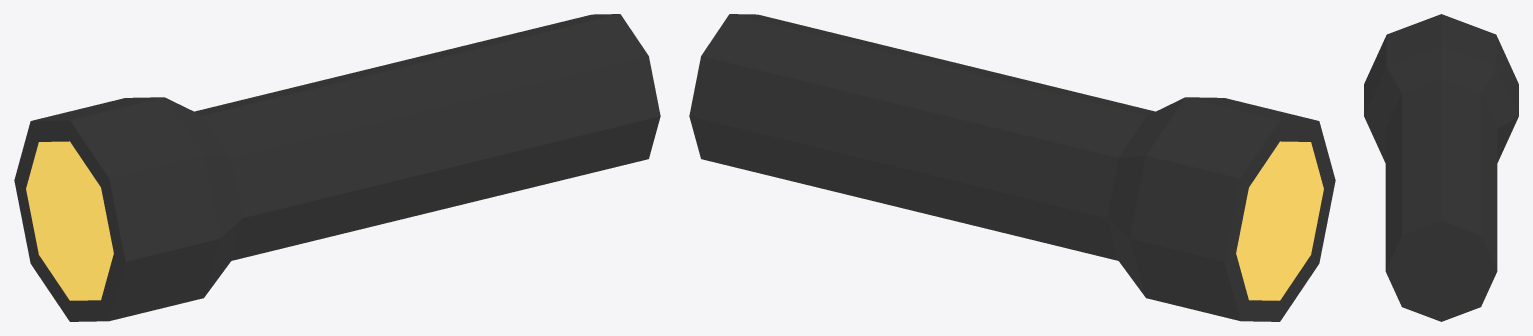
File: 007_light.gltf
3 views of the same model, side by side, from view 1: azimuth 30°, elevation 25°; view 2: azimuth 150°, elevation 25°; view 3: azimuth 270°, elevation 25° (orthographic). The views are drawn at different scales.
Parts seen in each view (by area): view 1: 손전등; view 2: 손전등; view 3: 손전등.
Boxes of the visible parts, x1,y1,x2,y2 form: 손전등: [14, 14, 660, 321]; 손전등: [689, 14, 1335, 321]; 손전등: [1364, 14, 1518, 321].
Bounding box in the file's own units: 4.75 × 1.66 × 1.66.
